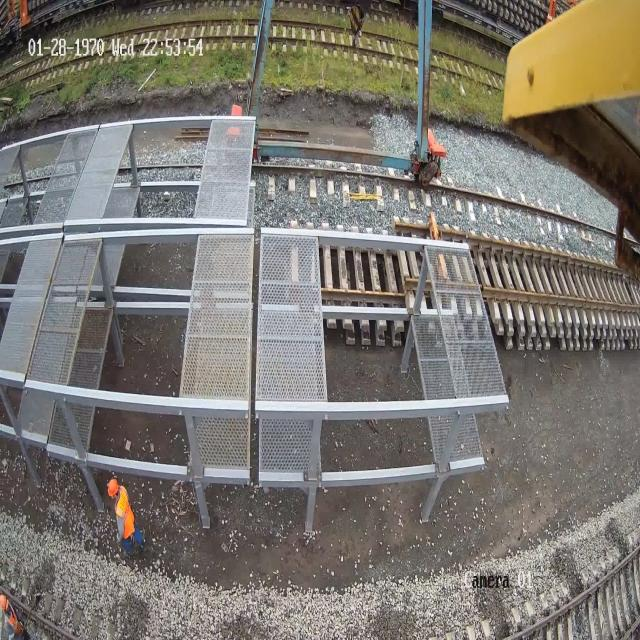Helmet: (108, 478, 119, 497)
Person: (107, 478, 145, 557)
